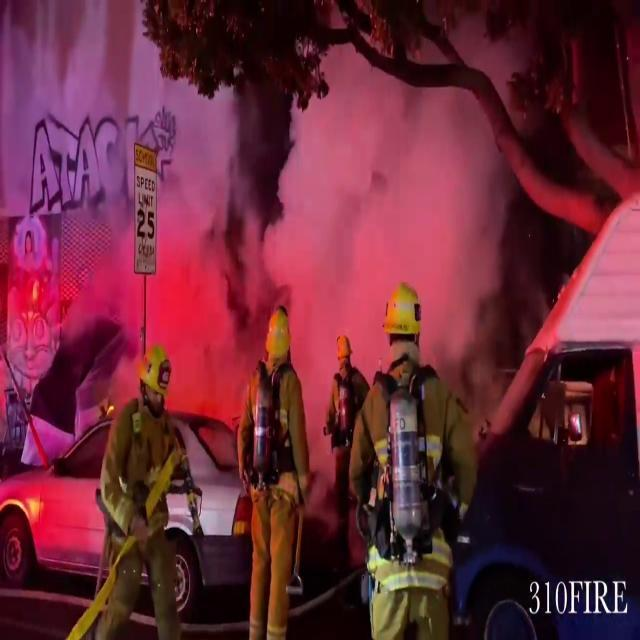Smoke: (255, 51, 520, 452)
